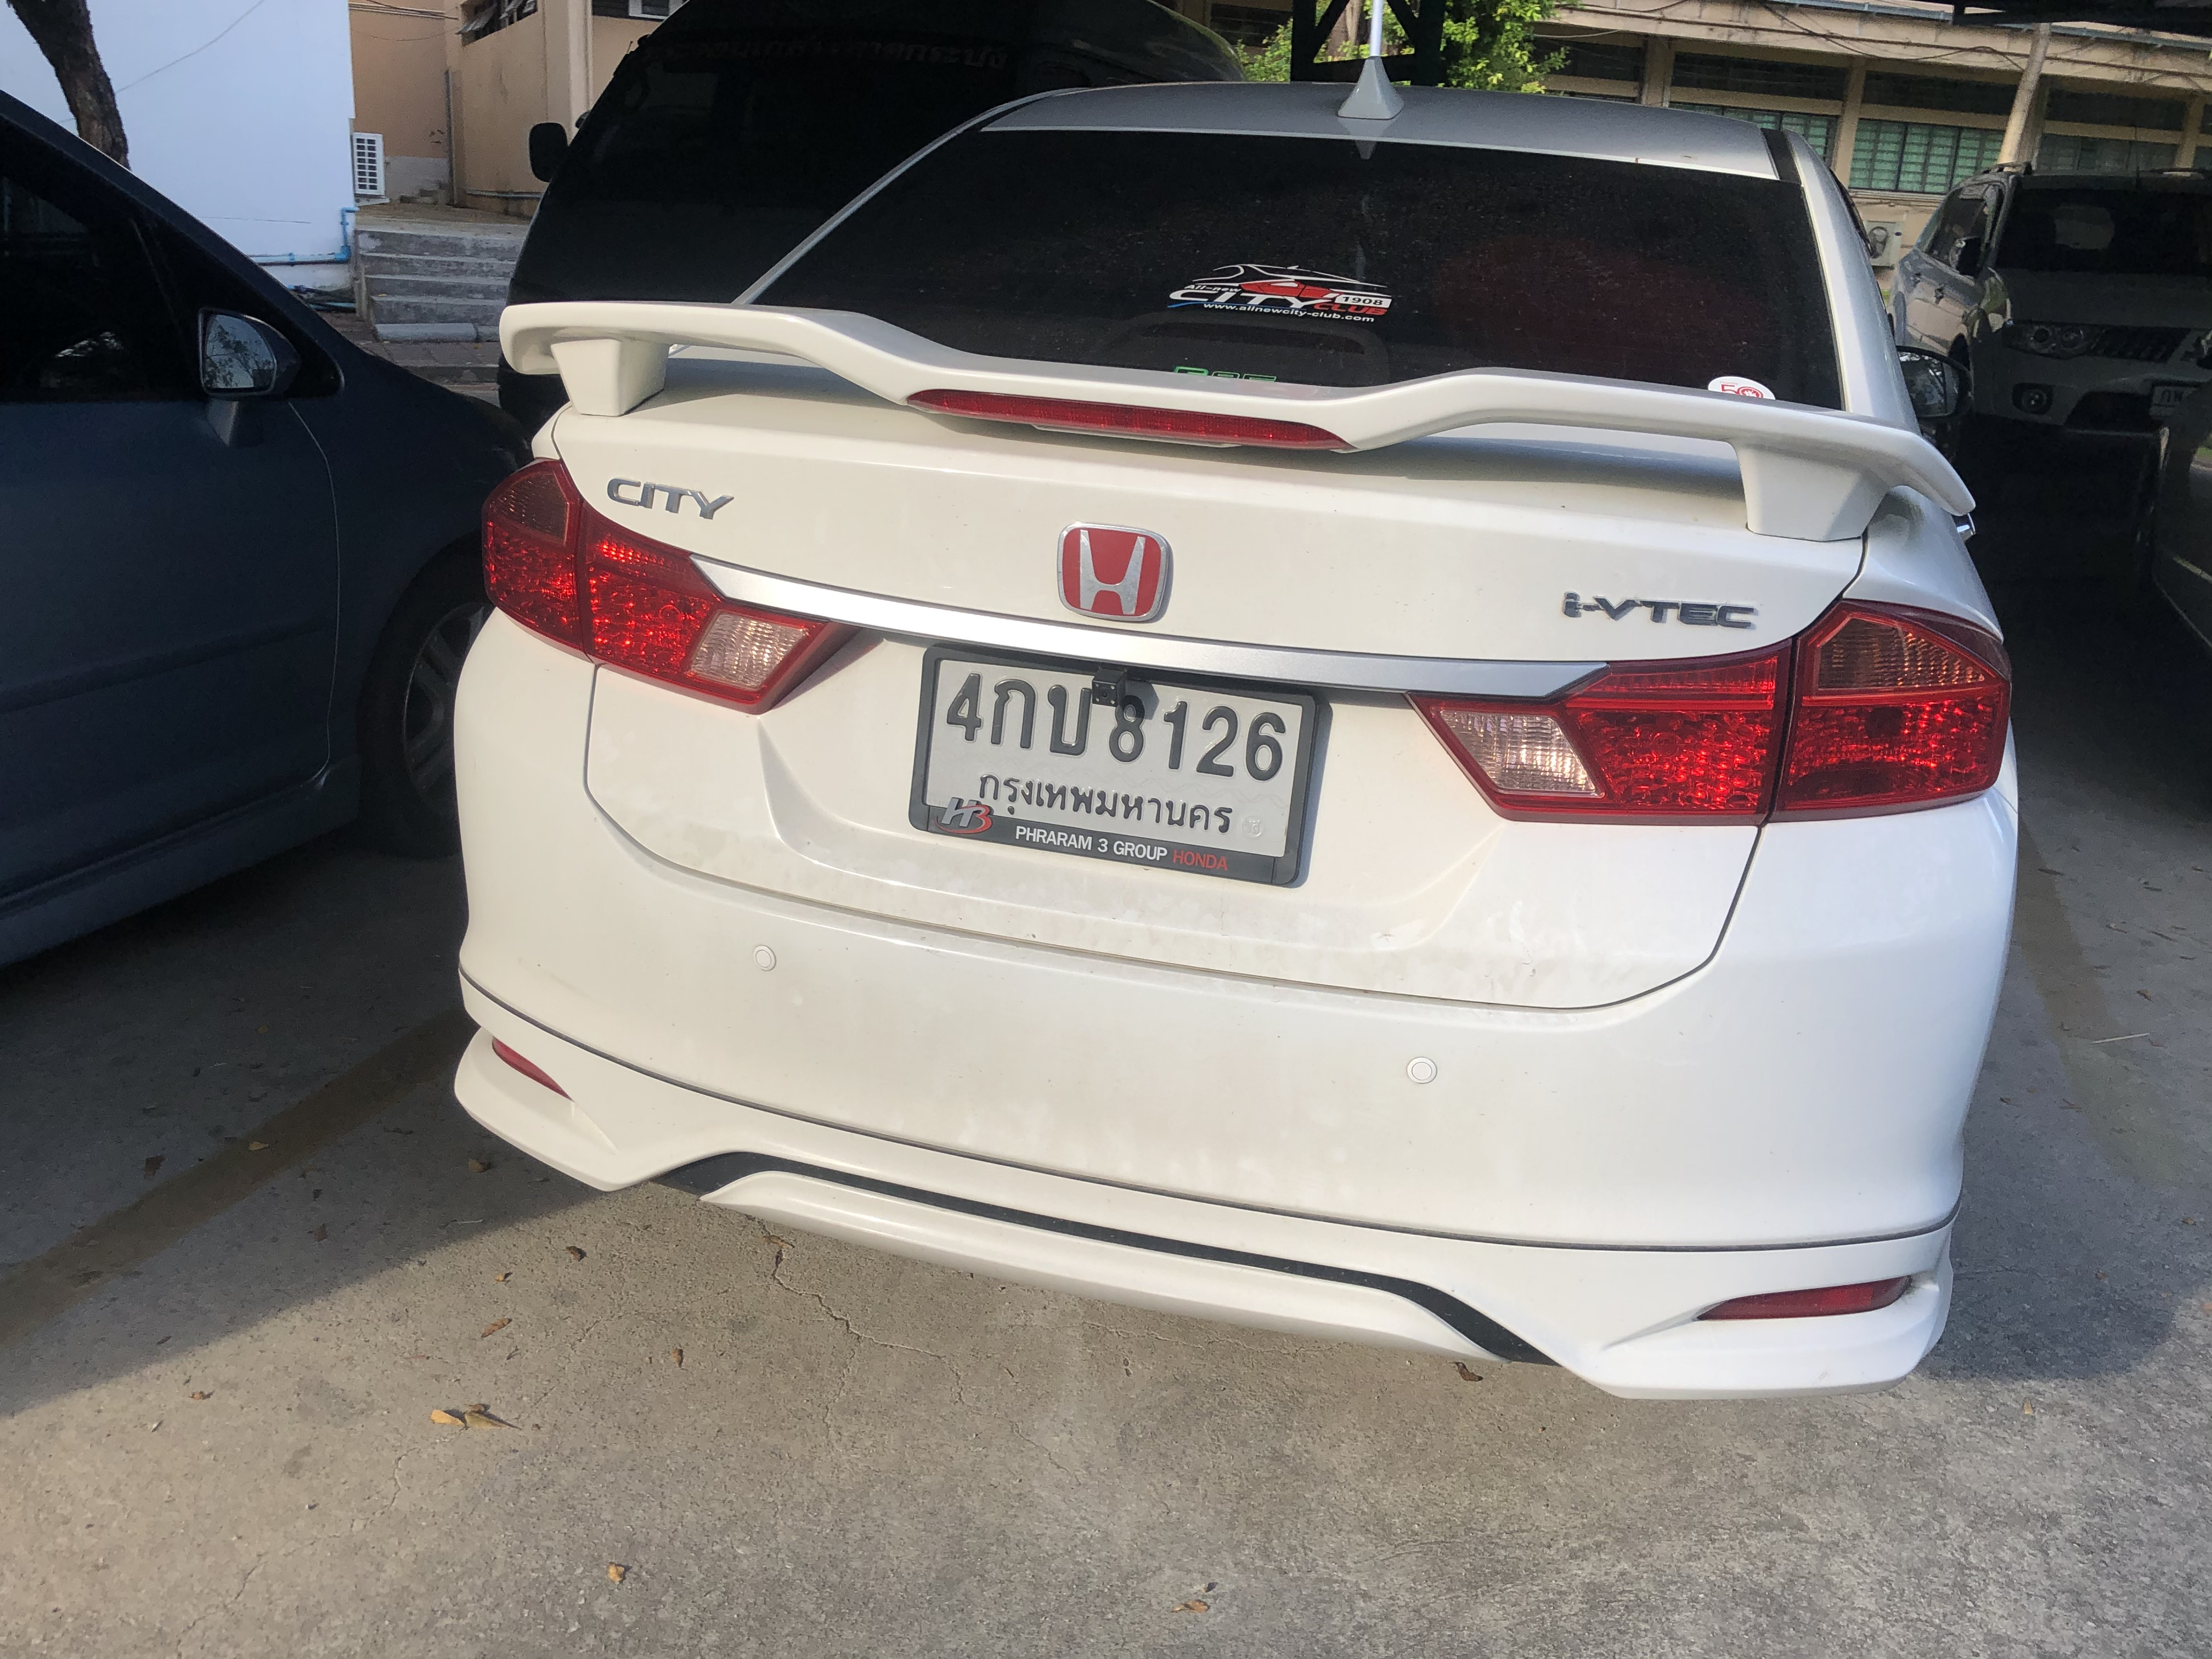in: (930, 657, 1305, 863)
out: (907, 645, 1331, 889)
